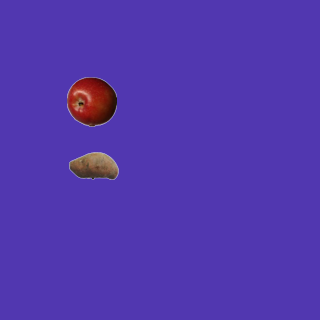Apple Braeburn: (66, 76, 116, 126)
Potato Sweet: (68, 140, 118, 190)
